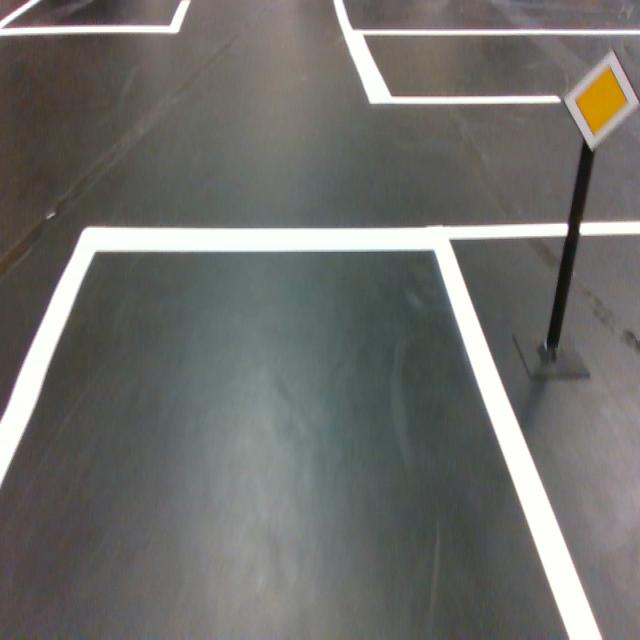priority-sign: (561, 48, 640, 152)
